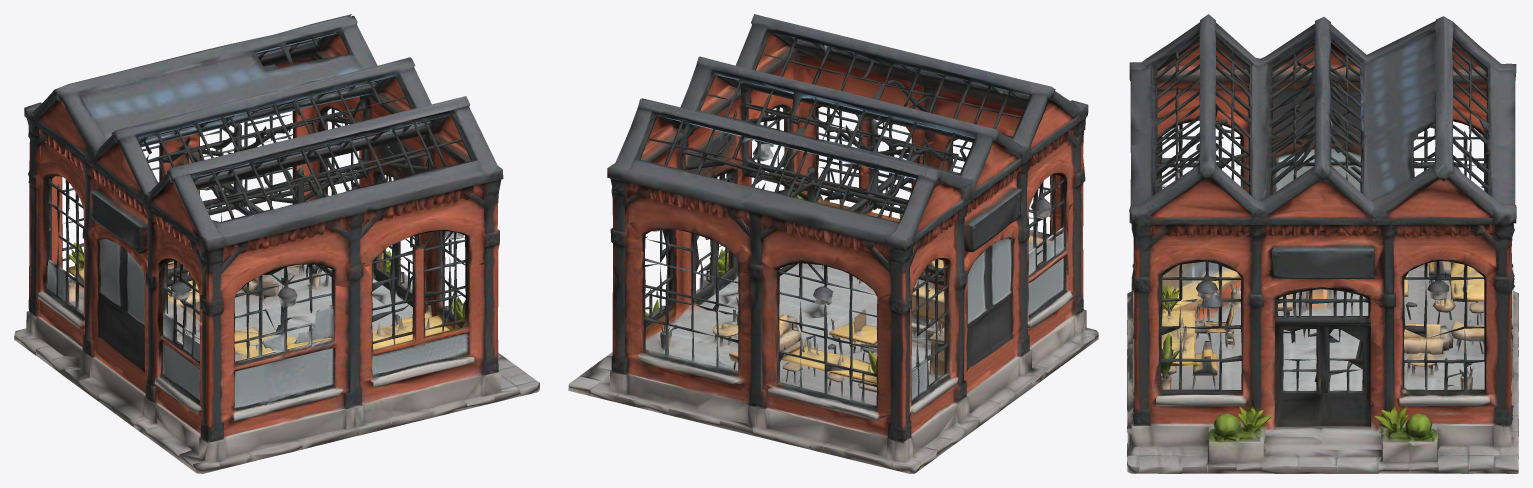
The model's file is escritorio-galpao.glb.
3 renders of one model, left to right at view 1: azimuth 30°, elevation 25°; view 2: azimuth 150°, elevation 25°; view 3: azimuth 270°, elevation 25°, orthographic. The views are drawn at different scales.
Parts seen in each view (by area): view 1: tripo_node_161554af-516a-488a-a502-c9fb2930cc6f; view 2: tripo_node_161554af-516a-488a-a502-c9fb2930cc6f; view 3: tripo_node_161554af-516a-488a-a502-c9fb2930cc6f.
Boxes of the visible parts, x1=… form: tripo_node_161554af-516a-488a-a502-c9fb2930cc6f: x1=14, y1=14, x2=539, y2=473; tripo_node_161554af-516a-488a-a502-c9fb2930cc6f: x1=568, y1=14, x2=1098, y2=473; tripo_node_161554af-516a-488a-a502-c9fb2930cc6f: x1=1127, y1=14, x2=1518, y2=473.
Bounding box in the file's own units: 1.3 × 1 × 1.23.
Materials: 1 (1 with a texture image).
